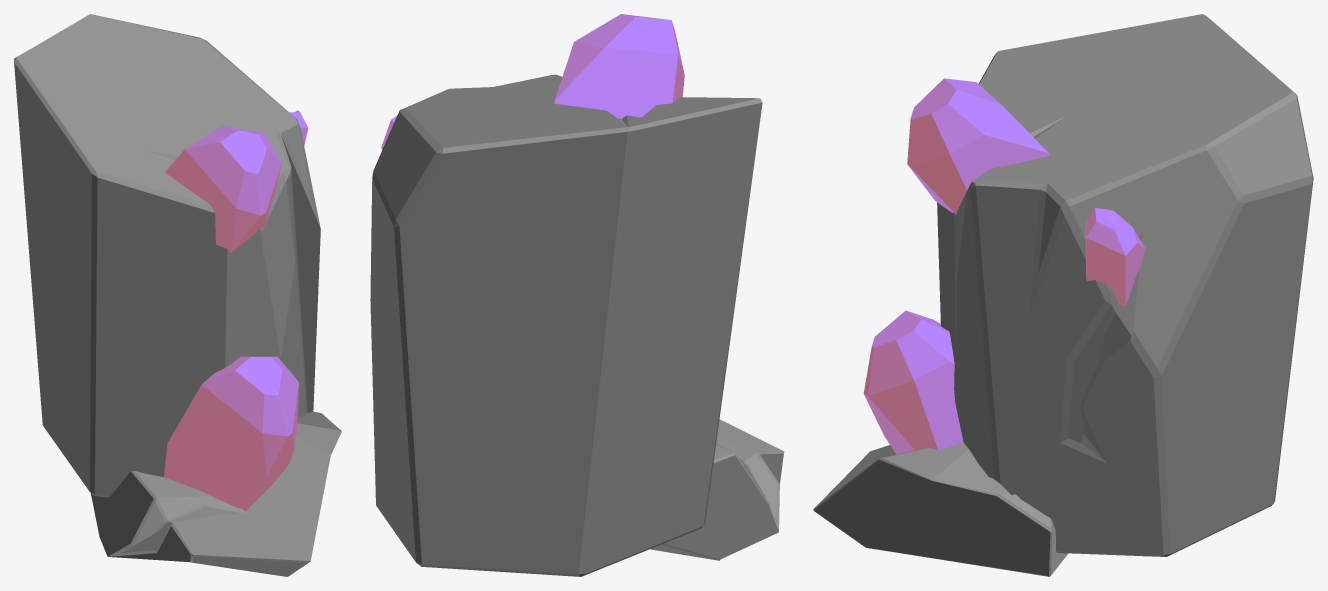
File: Red ore 3.fbx
3 renders of one model, left to right at view 1: azimuth 30°, elevation 25°; view 2: azimuth 150°, elevation 25°; view 3: azimuth 270°, elevation 25°, orthographic. The views are drawn at different scales.
Parts seen in each view (by area): view 1: Rock.001, Rock .014, Cube.122, Cube.005; view 2: Rock.001, Cube.005, Rock .014; view 3: Rock.001, Rock .014, Cube.005, Cube.122, Cylinder.049.
Boxes of the visible parts, left/top/right/bottom form: Rock.001: left=14, top=14, right=320, bottom=497; Rock .014: left=90, top=411, right=341, bottom=576; Cube.122: left=164, top=356, right=298, bottom=511; Cube.005: left=165, top=126, right=281, bottom=252; Rock.001: left=370, top=74, right=762, bottom=576; Cube.005: left=554, top=14, right=684, bottom=118; Rock .014: left=650, top=419, right=784, bottom=560; Rock.001: left=937, top=14, right=1313, bottom=556; Rock .014: left=813, top=442, right=1068, bottom=576; Cube.005: left=907, top=78, right=1050, bottom=214; Cube.122: left=863, top=310, right=963, bottom=454; Cylinder.049: left=1085, top=208, right=1145, bottom=306.
Bounding box in the file's own units: 34.06 × 53.81 × 51.65.
